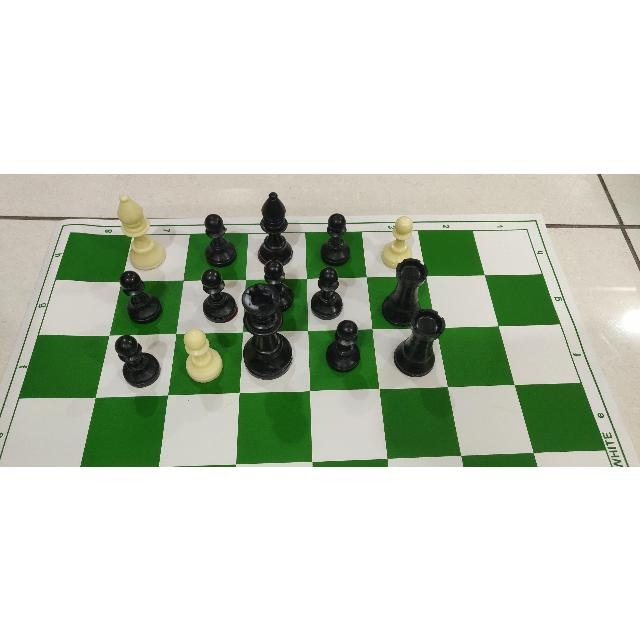black-bishop: (255, 189, 295, 269), (257, 191, 293, 266)
black-king: (242, 283, 294, 381), (242, 283, 292, 379)
black-pawn: (113, 331, 163, 389), (117, 267, 163, 325), (115, 333, 161, 386), (119, 270, 162, 324), (200, 267, 239, 323), (324, 319, 362, 373), (201, 268, 237, 322), (204, 210, 238, 267), (310, 264, 344, 320), (319, 211, 353, 267), (326, 318, 360, 371), (204, 213, 236, 267), (311, 265, 343, 318), (263, 257, 294, 310), (320, 212, 350, 265), (265, 258, 293, 309)
black-rook: (391, 306, 446, 377), (393, 307, 445, 376), (380, 256, 430, 326), (382, 258, 428, 326)
white-bishop: (114, 191, 167, 273), (116, 192, 165, 269)
white-pawn: (181, 326, 225, 384), (183, 328, 223, 382), (380, 214, 415, 270), (381, 216, 413, 268)
